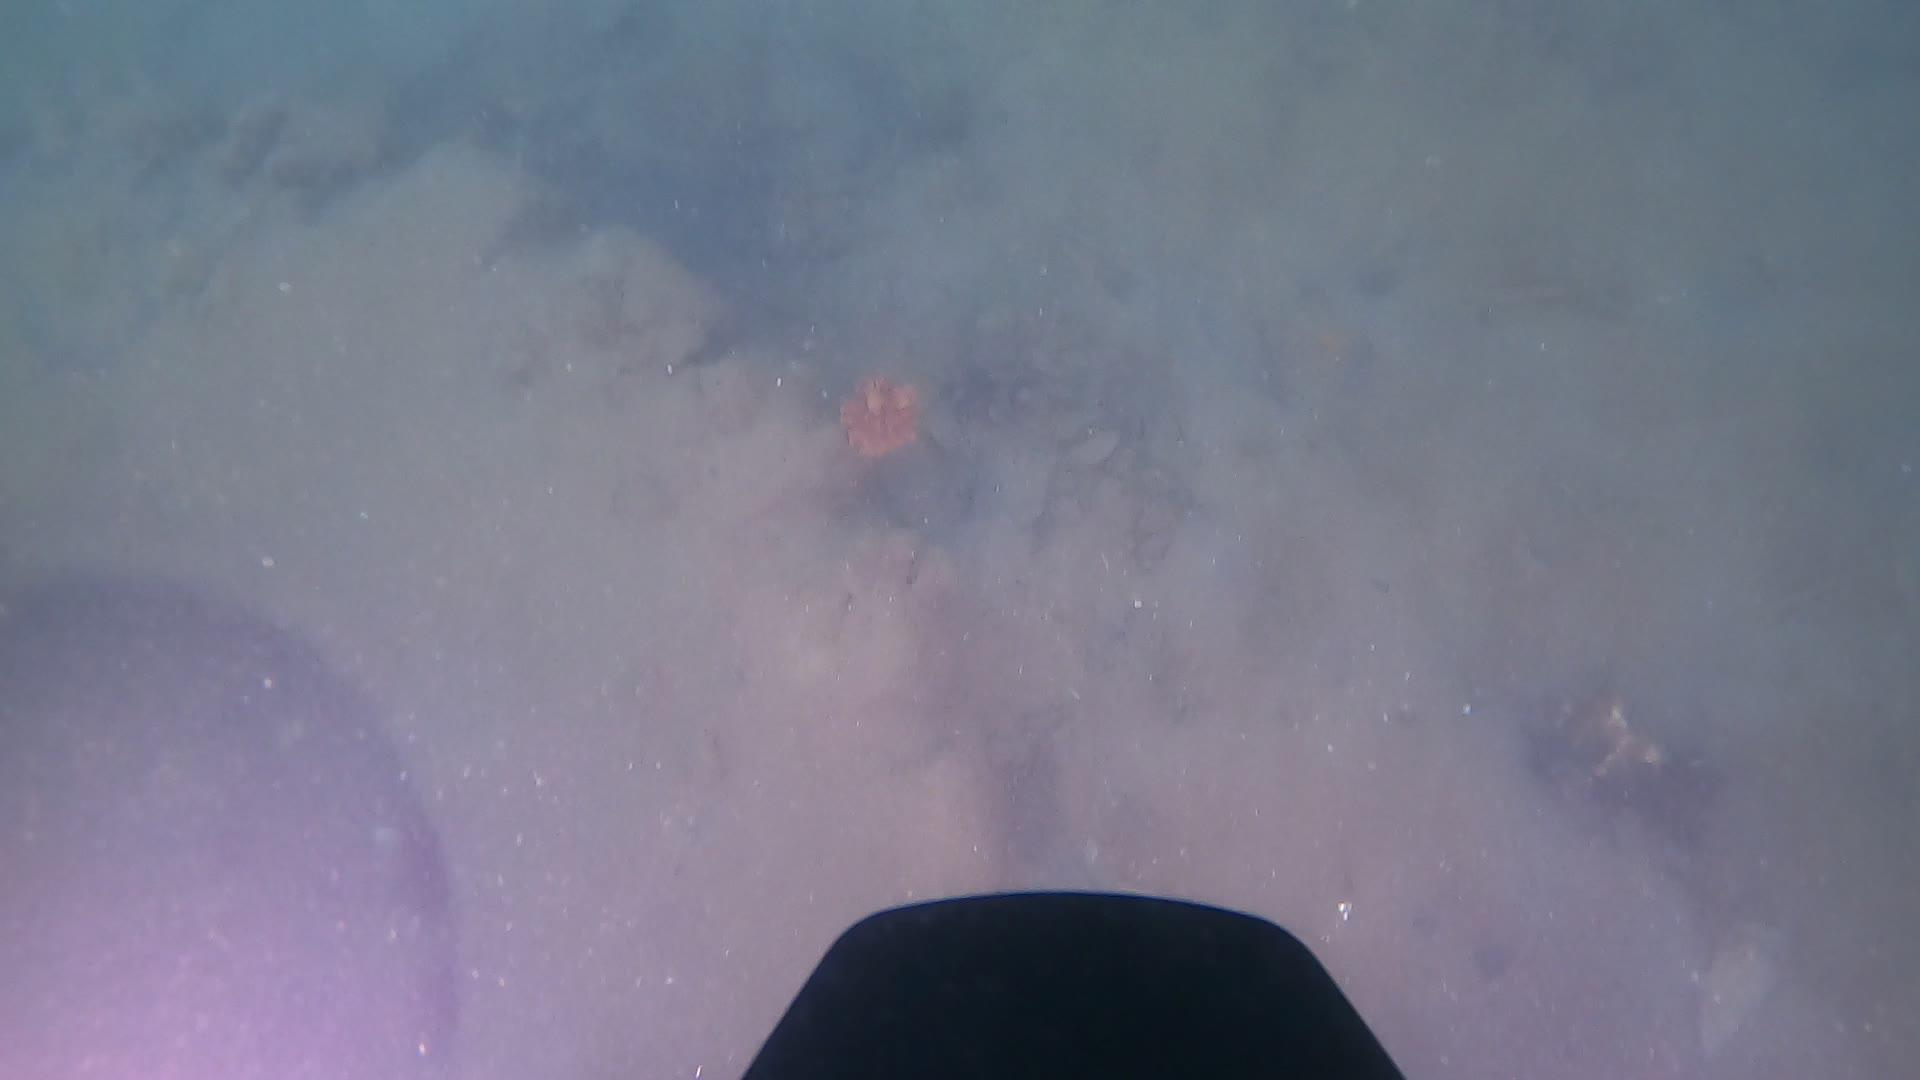tire: (0, 92, 1002, 1080)
